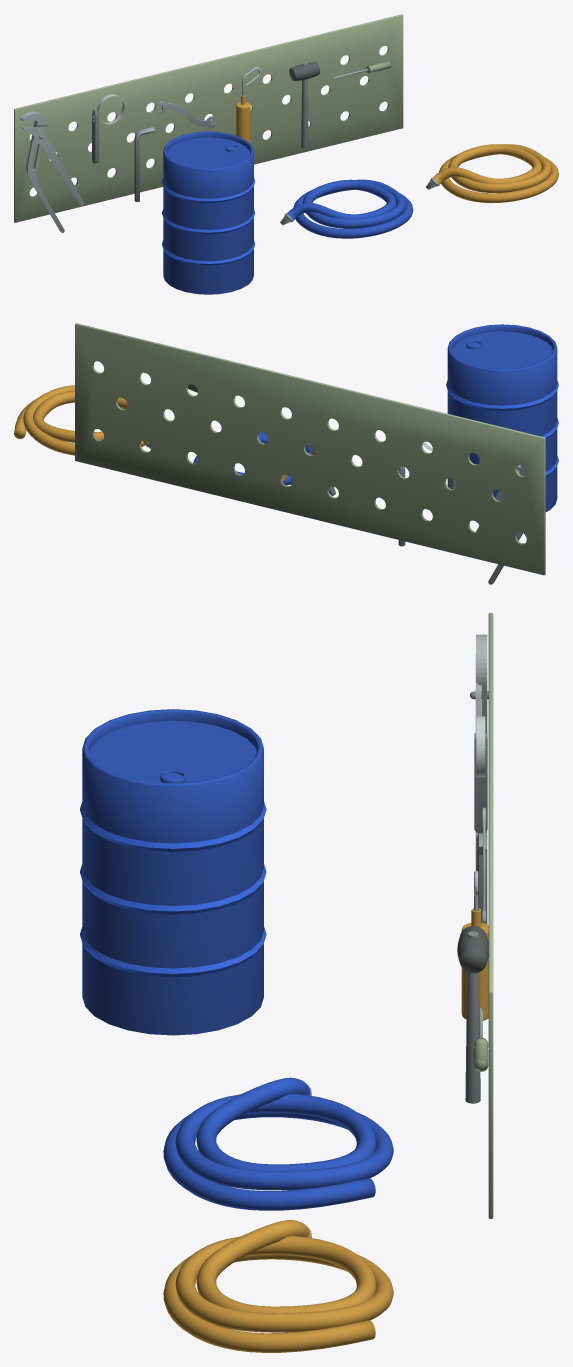
Rendered from environment.fbx.
3 views of the same model, one above another, from view 1: azimuth 30°, elevation 25°; view 2: azimuth 150°, elevation 25°; view 3: azimuth 270°, elevation 25° (orthographic). The views are drawn at different scales.
Parts seen in each view (by area): view 1: Cube, Cylinder, NurbsPath.001, NurbsPath.002, IMS_ChannelLock_VR, IMS_Mallet_VR, IMS_GreaseGun_VR:IMS_GreaseGun_VR, IMS_OilWrench, IMS_AllenWrench_VR8, IMS_CurvyWrench_VR1; view 2: Cube, Cylinder, NurbsPath.002, IMS_ChannelLock_VR; view 3: Cylinder, NurbsPath.001, NurbsPath.002, Cube, IMS_Mallet_VR, IMS_OilWrench, IMS_ChannelLock_VR, IMS_GreaseGun_VR:IMS_GreaseGun_VR.
Part boxes in pixels (x1,y1,x2,y2): Cube: [14, 14, 403, 222]; Cylinder: [162, 131, 255, 294]; NurbsPath.001: [280, 179, 413, 238]; NurbsPath.002: [426, 144, 558, 203]; IMS_ChannelLock_VR: [20, 111, 84, 232]; IMS_Mallet_VR: [289, 62, 319, 148]; IMS_GreaseGun_VR:IMS_GreaseGun_VR: [236, 67, 261, 143]; IMS_OilWrench: [92, 94, 124, 163]; IMS_AllenWrench_VR8: [134, 127, 154, 201]; IMS_CurvyWrench_VR1: [157, 101, 216, 128]; Cube: [75, 323, 545, 575]; Cylinder: [446, 324, 558, 511]; NurbsPath.002: [14, 385, 150, 455]; IMS_ChannelLock_VR: [476, 464, 526, 584]; Cylinder: [80, 709, 266, 1035]; NurbsPath.001: [163, 1077, 393, 1210]; NurbsPath.002: [163, 1220, 393, 1352]; Cube: [488, 613, 493, 1218]; IMS_Mallet_VR: [457, 926, 488, 1103]; IMS_OilWrench: [474, 716, 487, 833]; IMS_ChannelLock_VR: [470, 634, 488, 870]; IMS_GreaseGun_VR:IMS_GreaseGun_VR: [461, 871, 488, 1020].
Size of the model in its own units: 99.37 by 26.83 by 36.87.
Materials: 1 (1 with a texture image).
